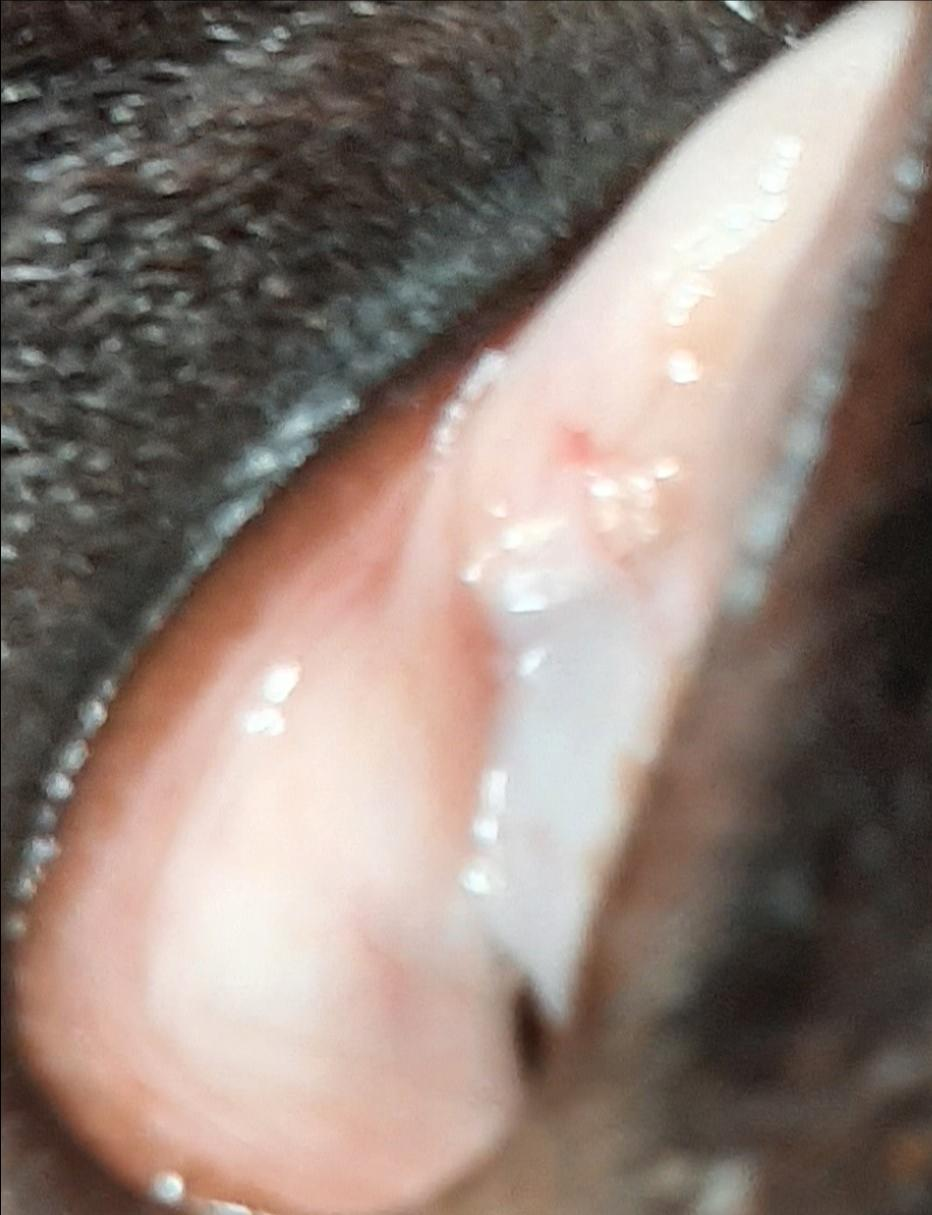eye_membrane: (10, 8, 932, 1215)
